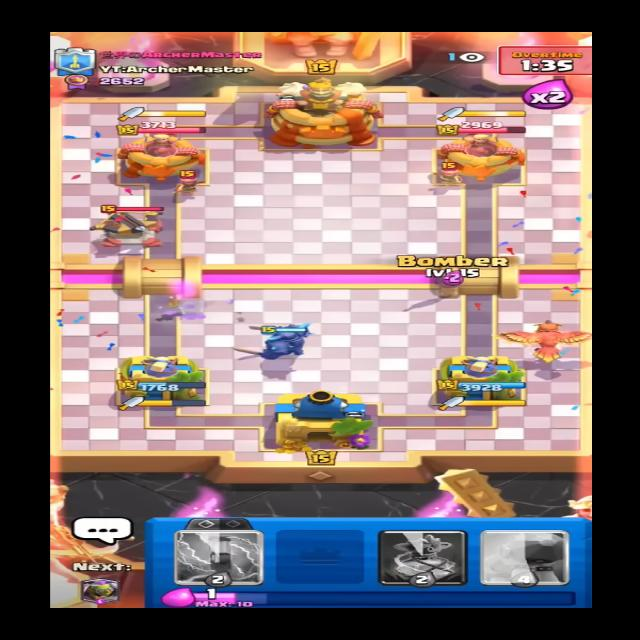archer: (171, 170, 203, 196), (434, 160, 468, 184)
x-bow: (89, 203, 171, 249)
